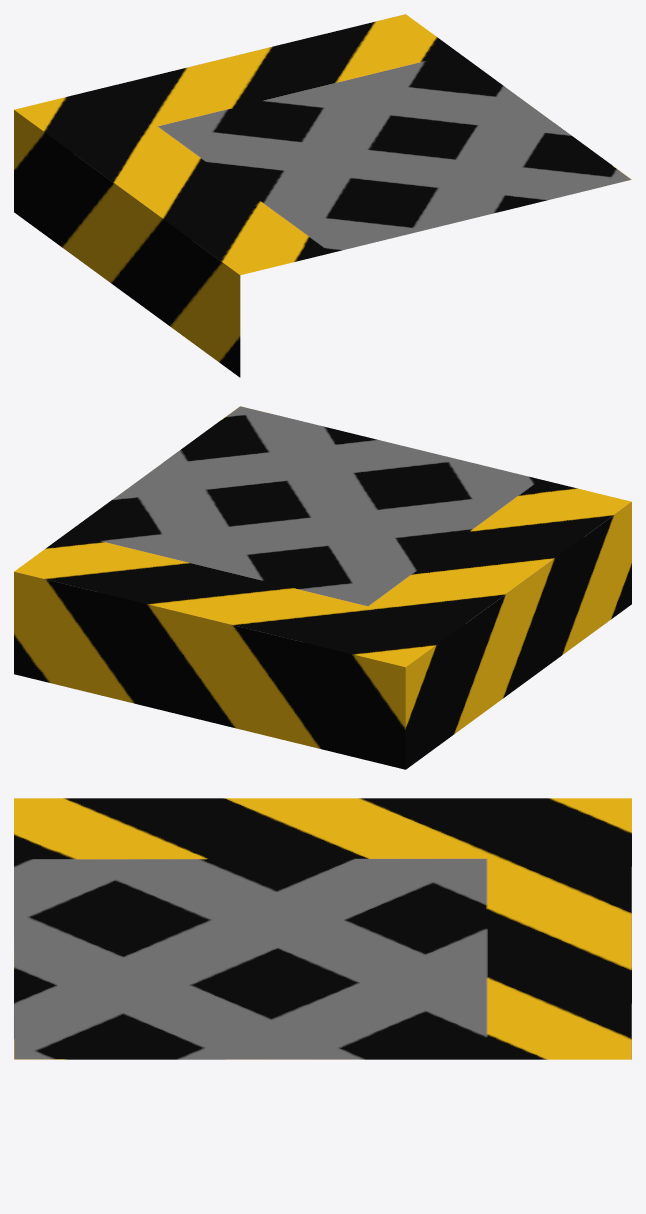
The model's file is floor_chain_corner.glb.
3 views of the same model, one above another, from view 1: azimuth 30°, elevation 25°; view 2: azimuth 150°, elevation 25°; view 3: azimuth 270°, elevation 25° (orthographic). The views are drawn at different scales.
Visible parts, largest first — view 1: Plane; view 2: Plane; view 3: Plane.
Boxes of the visible parts, x1=… form: Plane: x1=14, y1=14, x2=631, y2=377; Plane: x1=14, y1=406, x2=631, y2=769; Plane: x1=14, y1=798, x2=631, y2=1059.
Bounding box in the file's own units: 2 × 0.5 × 2.
Materials: 1 (1 with a texture image).
